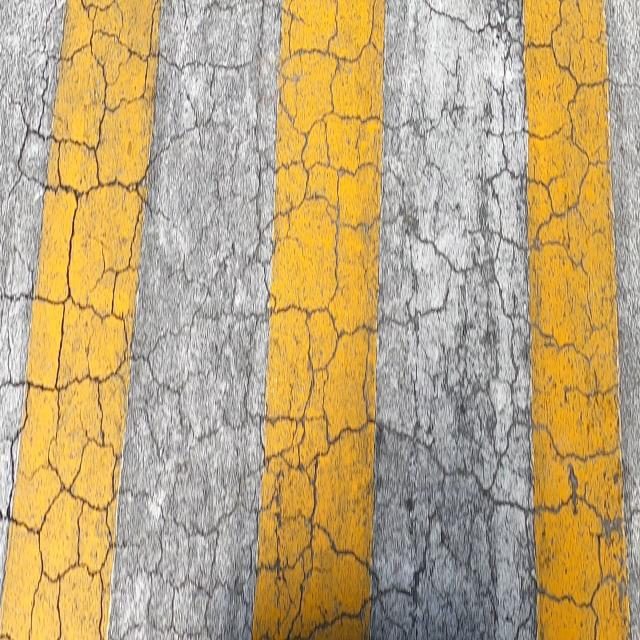Retak-Buaya: (0, 0, 630, 640)
